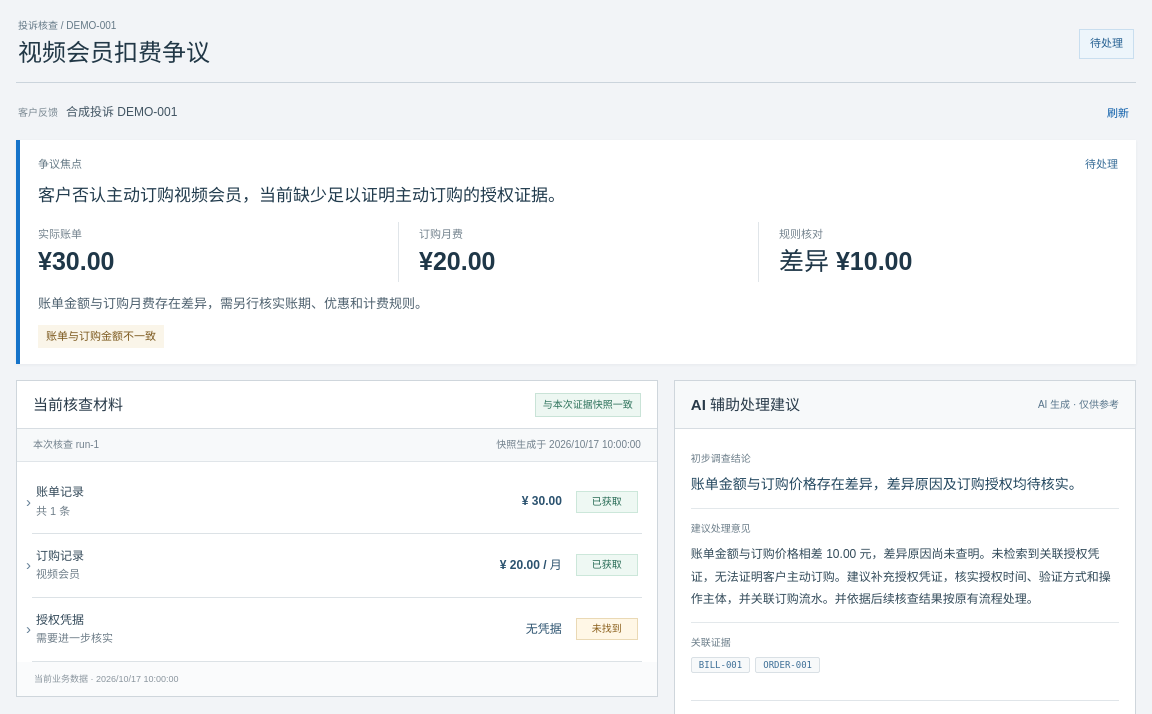
预审业务模块 › 当前数据与历史快照明确区分，引用自动切回快照
Click the button "刷新".
click(1118, 113)  # box [1102,102,1134,125]
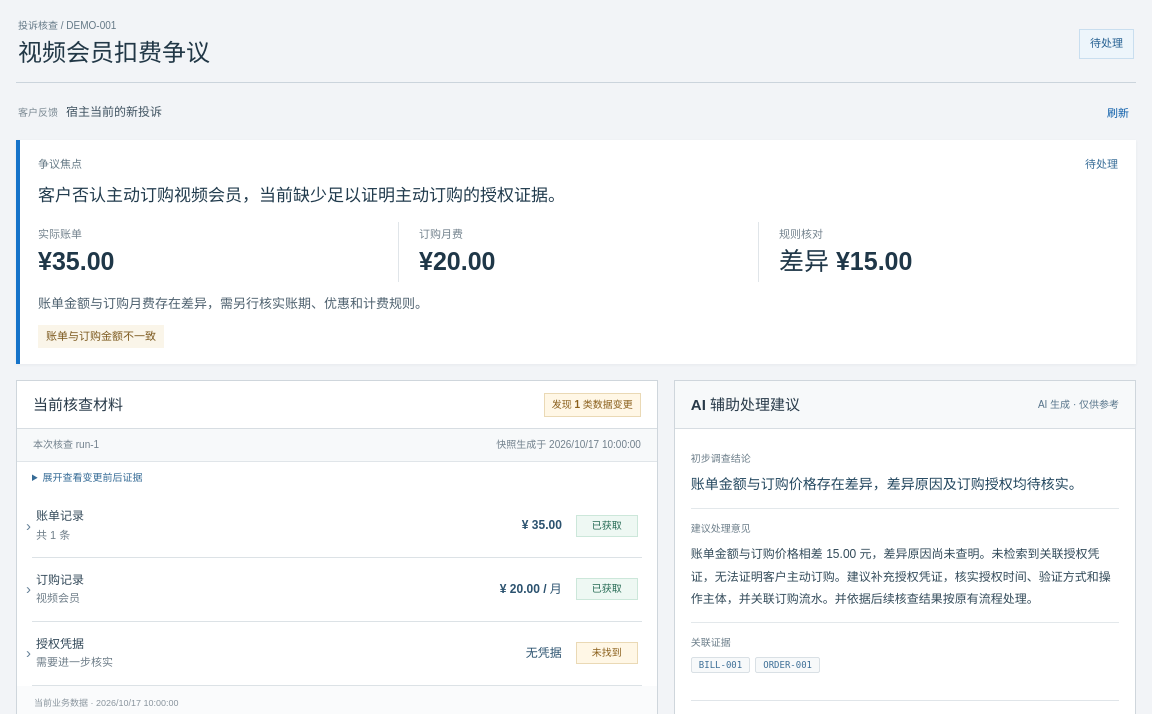
Expected: the text "当前业务数据" is shown, [34,698,179,708]
Expected: the text "发现 1 类数据变更" is shown, [544,393,641,417]
Click the button with class "evidence-link" showing "BILL-001".
click(721, 665)  # box [691,657,750,673]
(page scrolled)
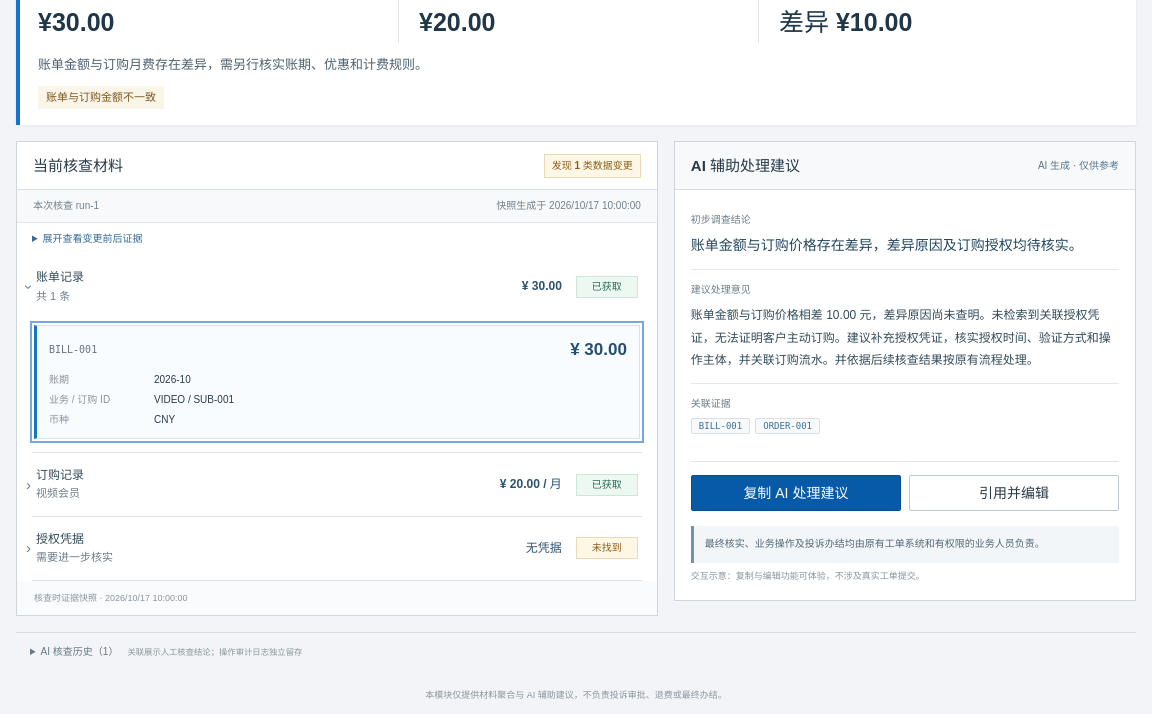
Expected: the text "核查时证据快照" is shown, [34,593,188,603]
